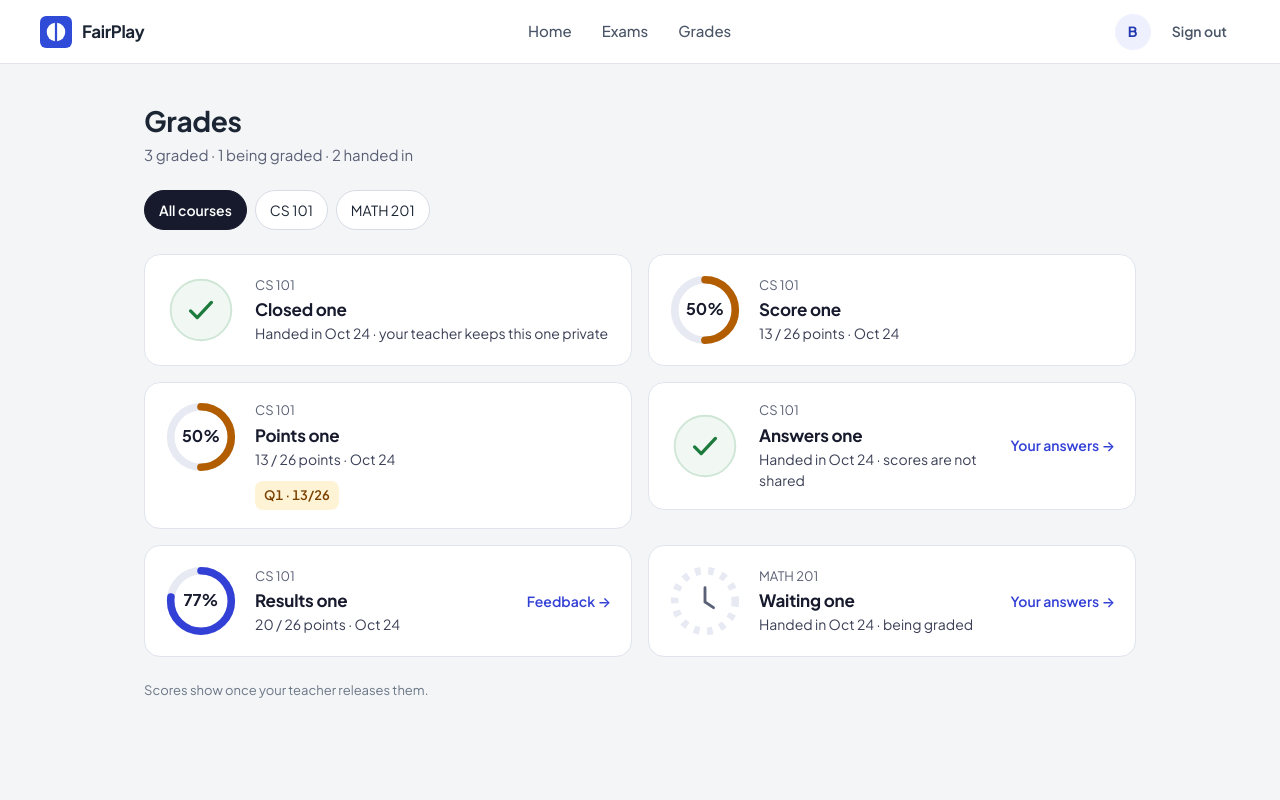
grades page › shows each exam per its level, in cards
This screenshot has width=1280, height=800.
Check: the text "Closed one" shows "your teacher keeps this one private", box [255,324,608,342]
Check: the picture named "50 percent" is shown, box [669,274,741,346]
Note: course filter
Click the button "MATH 201". click: click(383, 210)
box: [336,190,430,230]
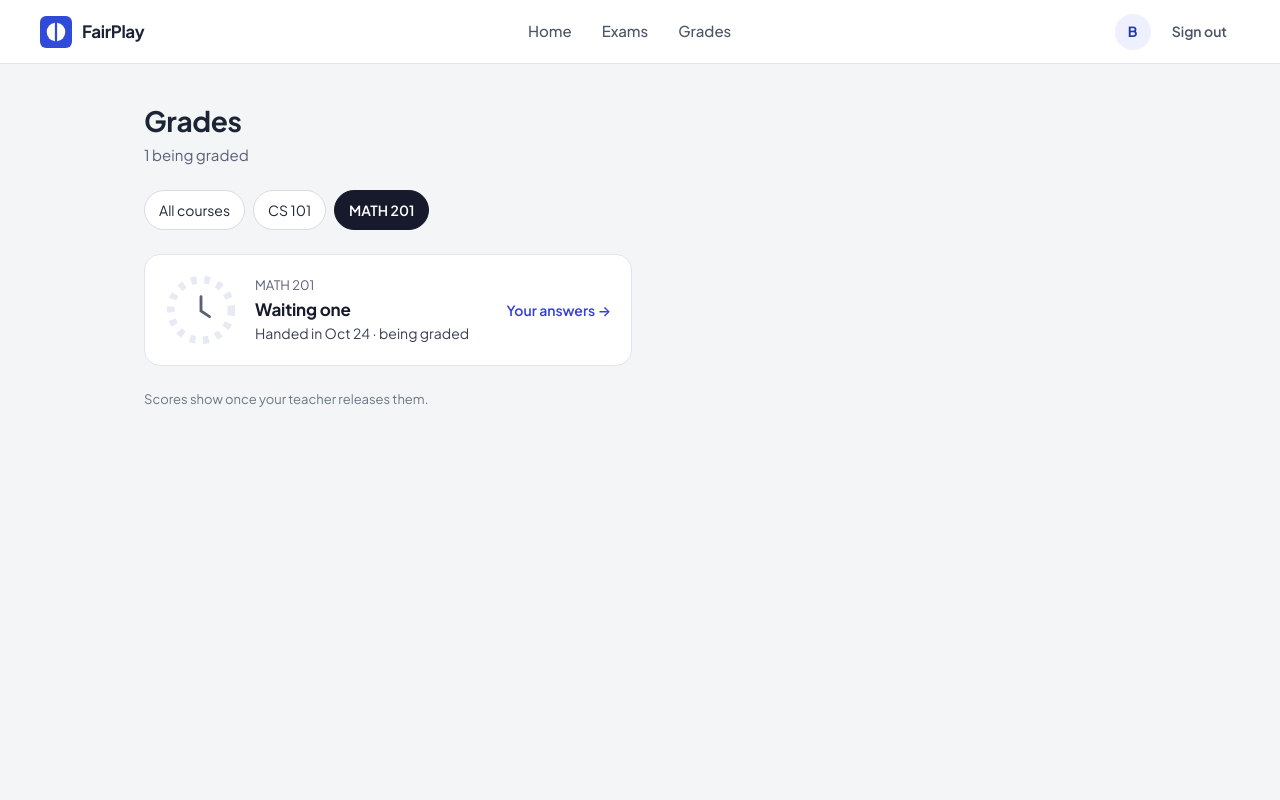
Check: the number of links with test id "grade-card" is 1, box [144,254,632,366]
Click the button "All courses". click: click(195, 210)
box: [144,190,245,230]
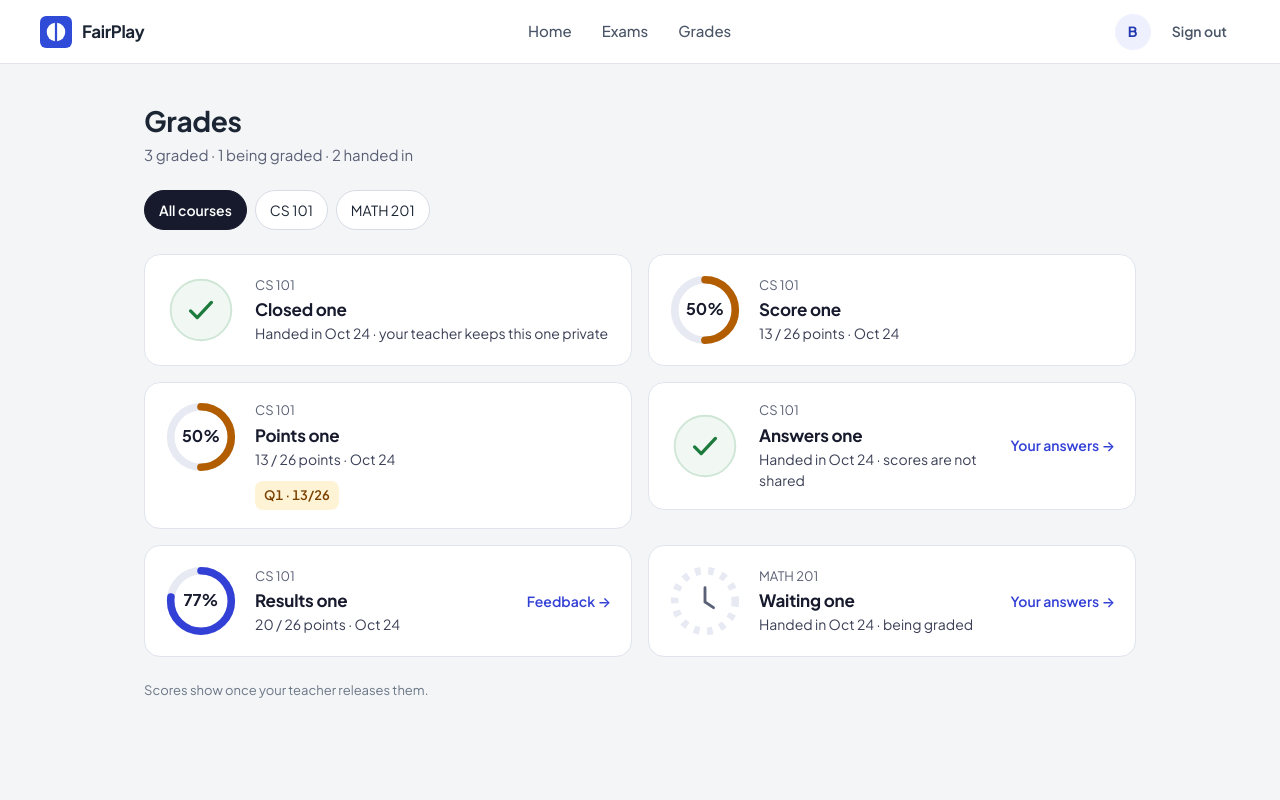
Check: the number of elements with test id "grade-card" is 6, box [144,254,632,366]; [648,254,1136,366]; [144,382,632,529]; [648,382,1136,510]; [144,545,632,657]; [648,545,1136,657]
